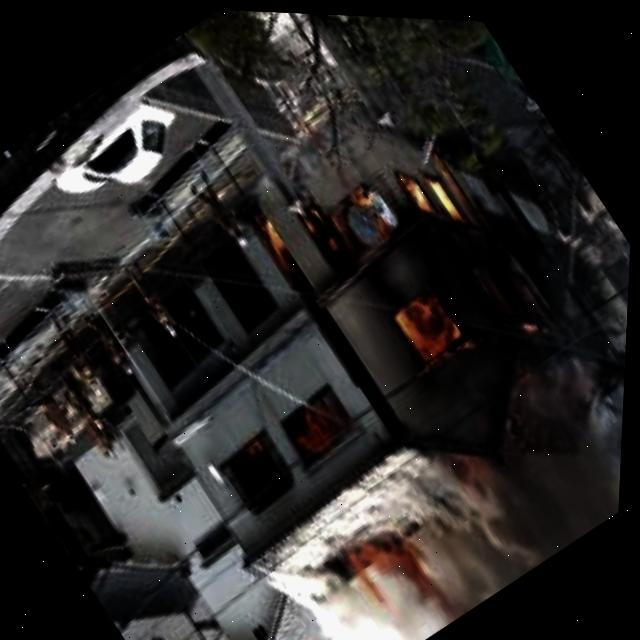Fire: (371, 272, 484, 385), (230, 194, 321, 297), (281, 379, 368, 466), (390, 152, 473, 239), (282, 189, 358, 273)
Smoke: (234, 323, 629, 640)
